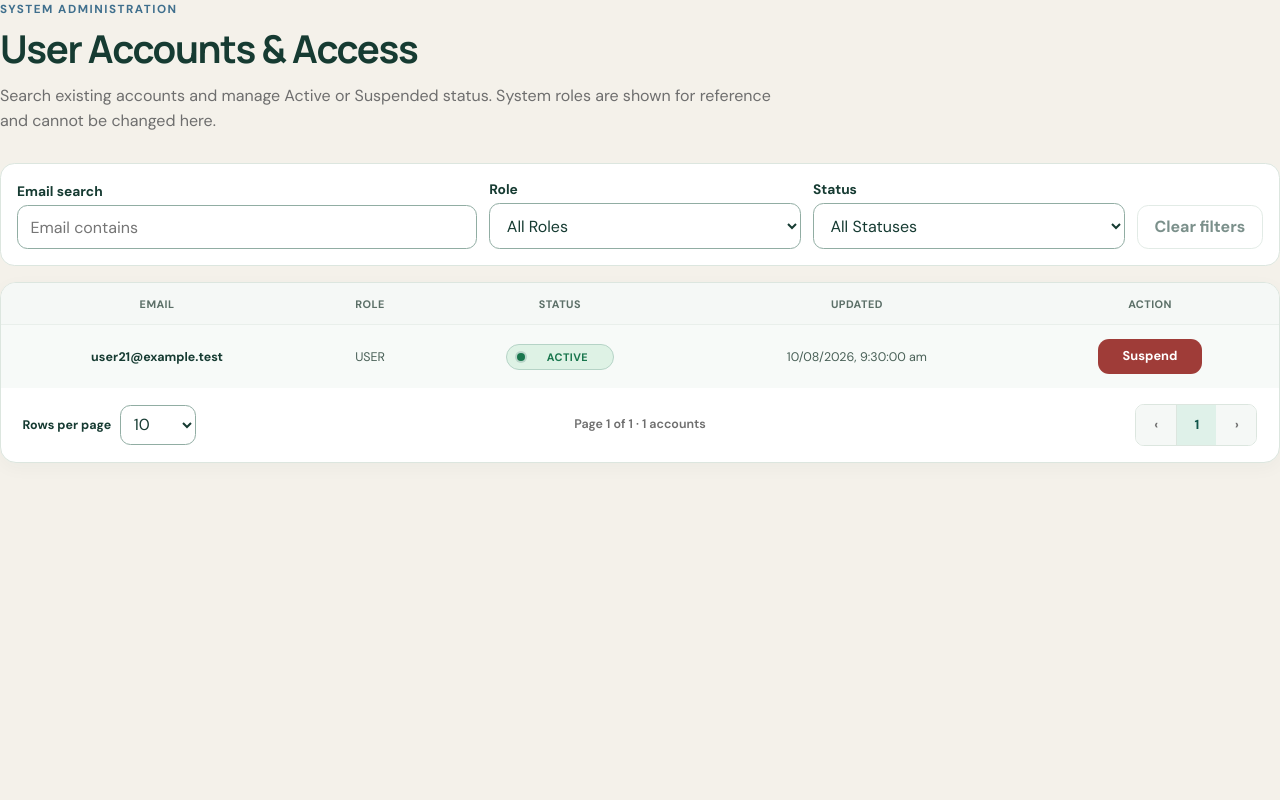
Test: UserAccessPage UC13 account status management › shows transition feedback when changed=true
Expected: the column heading "user21@example.test" is shown, [1, 325, 313, 388]
Click the button "Suspend" at (1150, 357), box [1098, 339, 1202, 374]
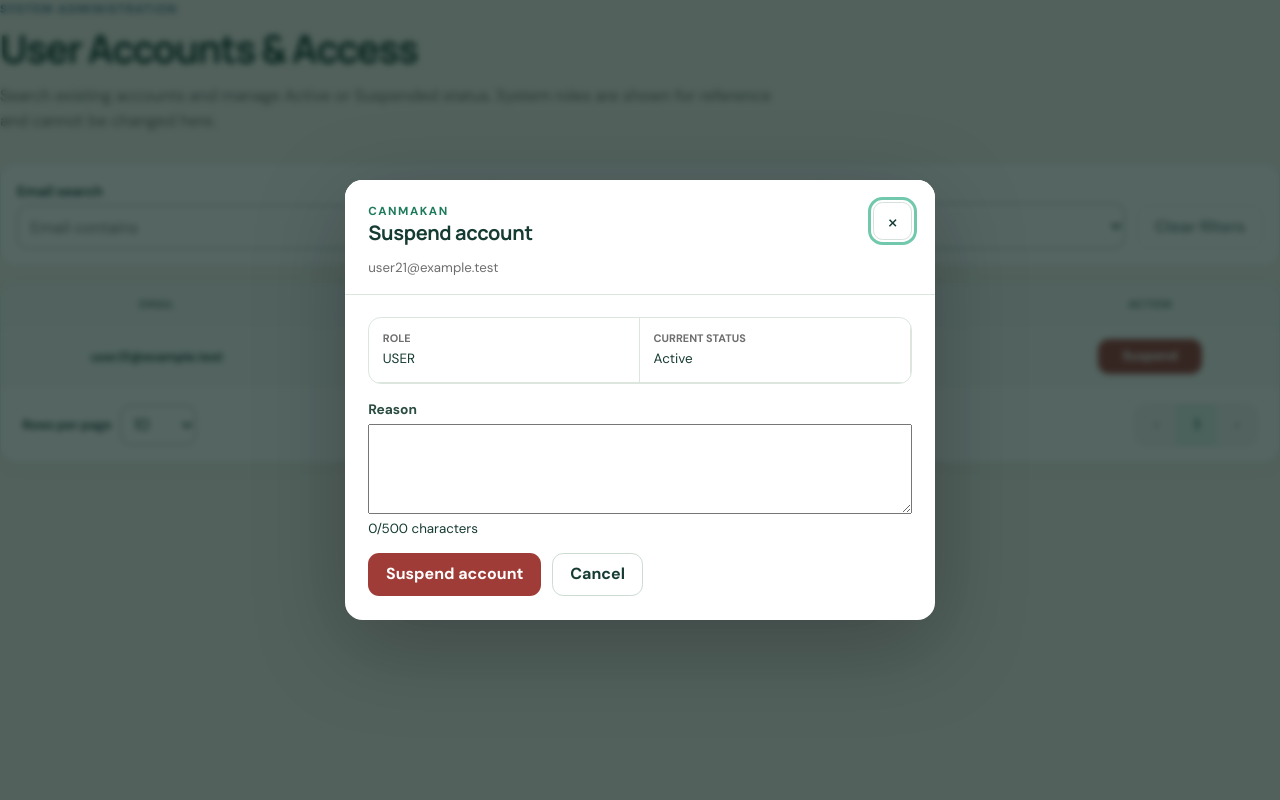
Type "Policy breach" into the text box labelled "Reason" at (640, 469), box [368, 424, 912, 514]
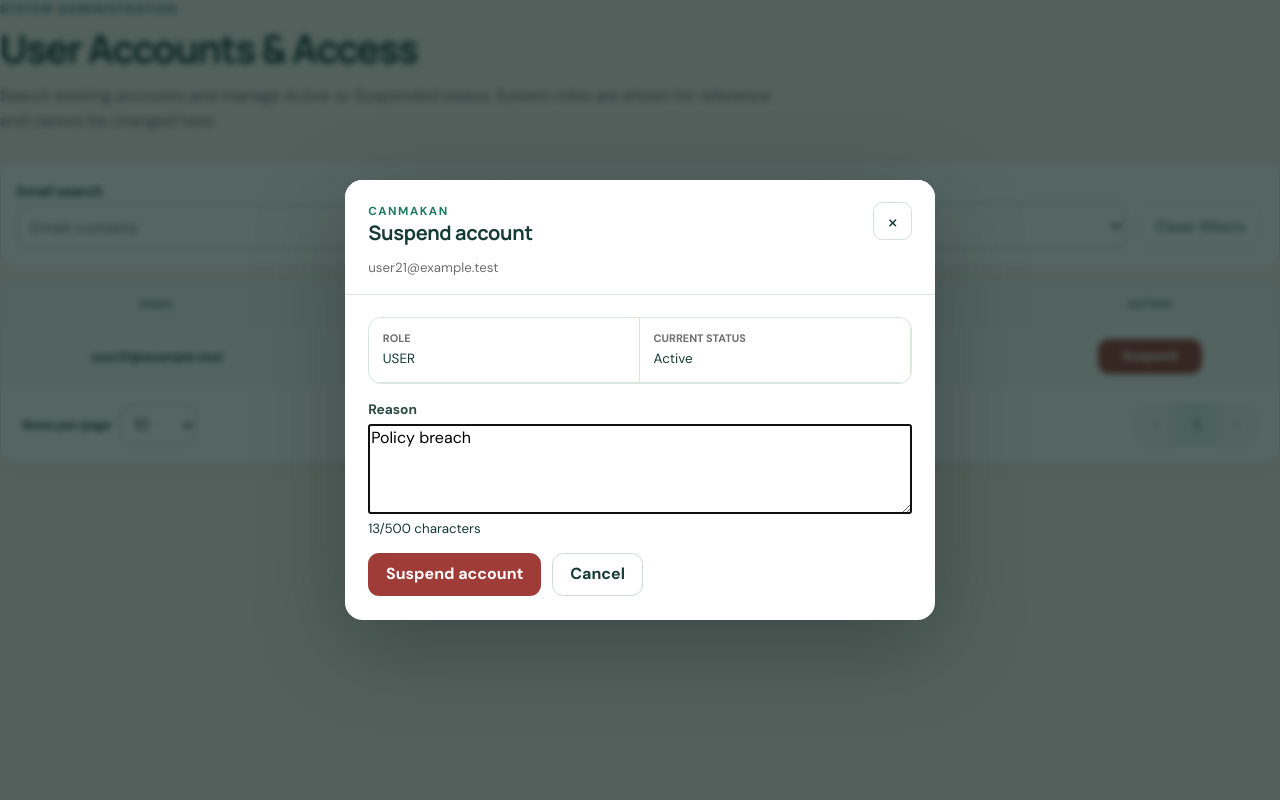
Click the button "Suspend account" at (455, 574), box [368, 552, 541, 596]
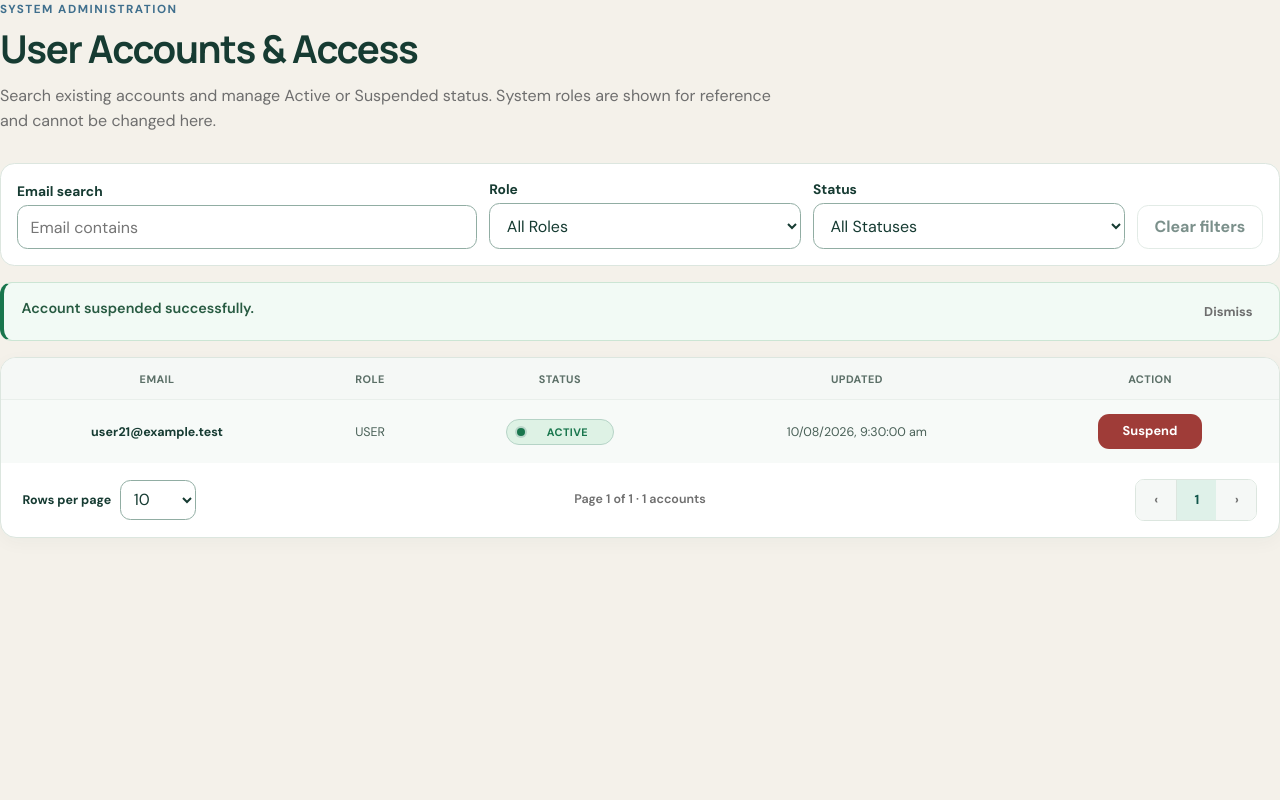
Now the text "Account suspended successfully." is shown, box [22, 299, 254, 317]
Click the button "Dismiss" at (1228, 312), box [1195, 299, 1261, 324]
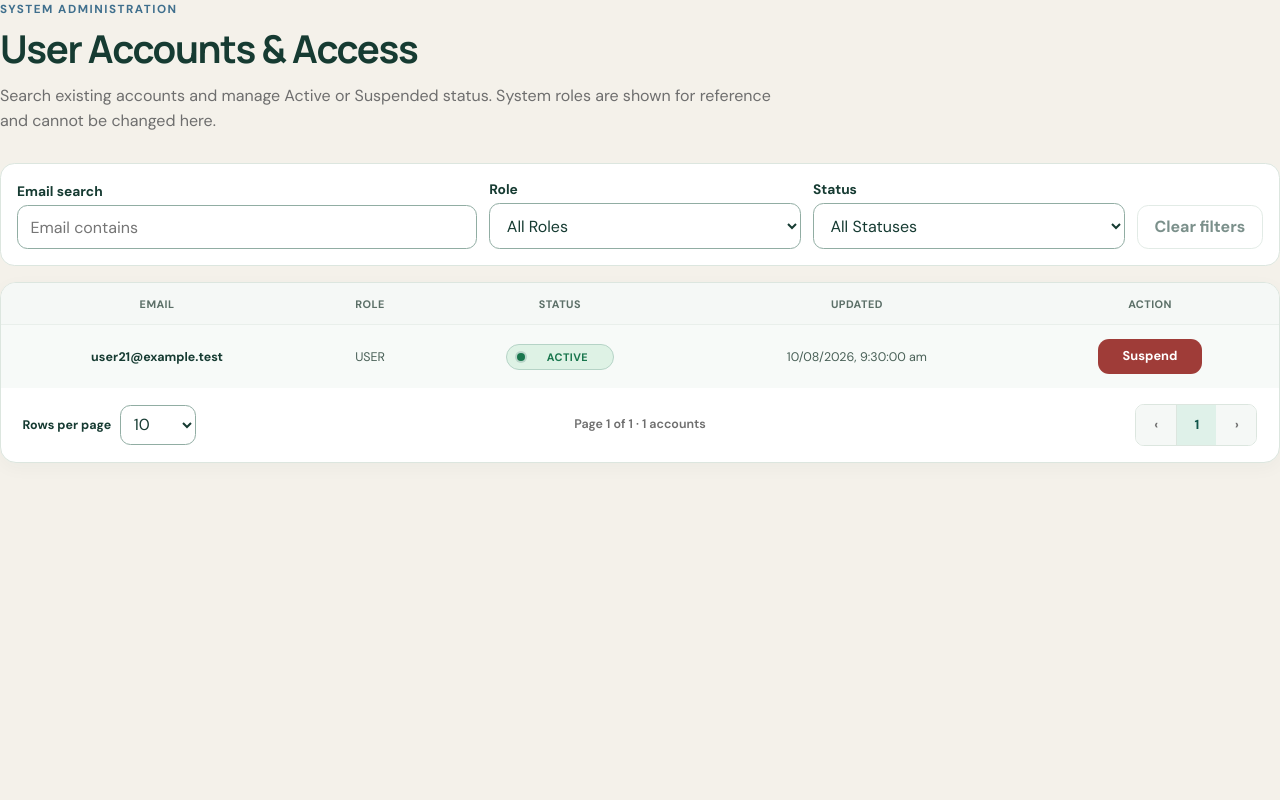
Now the text "Account suspended successfully." is gone
